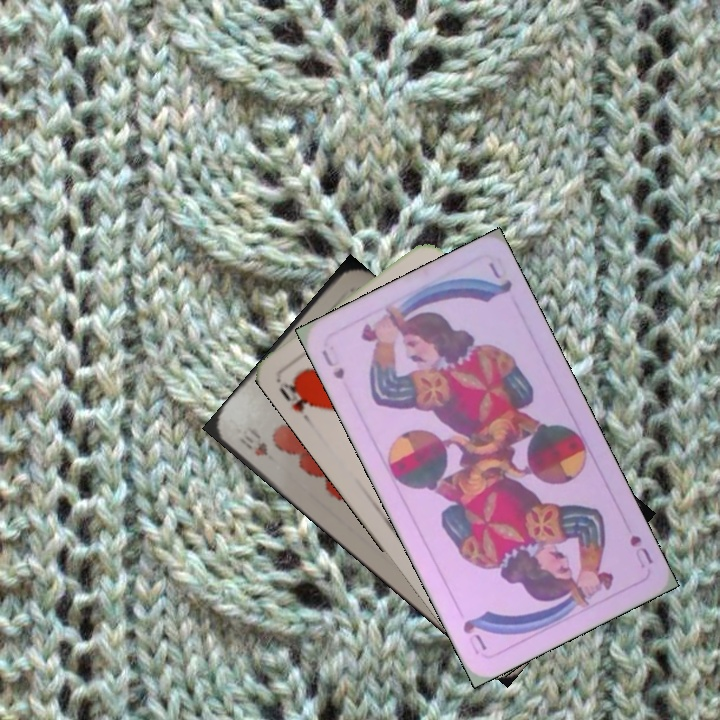H10: (235, 422, 271, 459)
HO: (274, 375, 319, 427)
SU: (317, 345, 348, 385), (625, 531, 656, 571)
